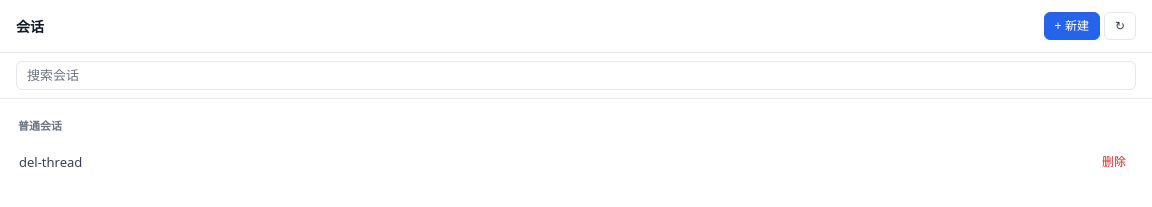
Scenario: ThreadSidebar — 删除 › 点击取消隐藏确认按钮并恢复删除按钮
Click the button with aria-label "删除会话 del-thread".
click(1114, 162)  # box [1095,148,1133,176]
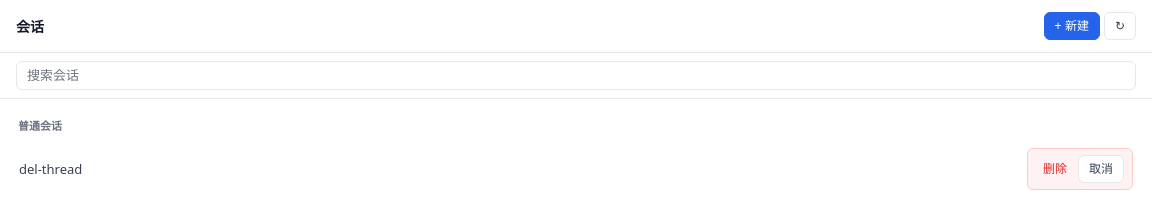
Click the button with aria-label "取消删除".
click(1101, 169)  # box [1078,155,1124,183]
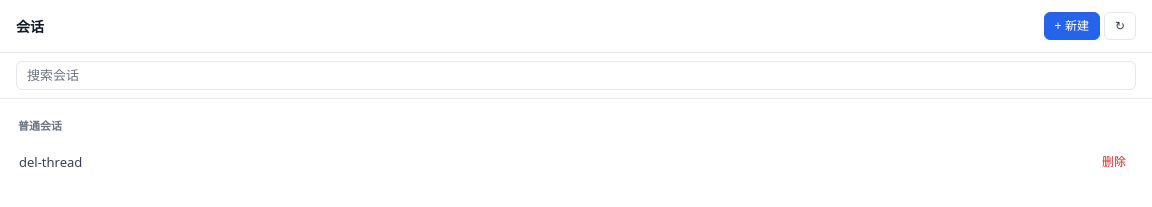
Check: the button "确认删除" is gone
Check: the button with aria-label "删除会话 del-thread" is shown, box [1095,148,1133,176]
